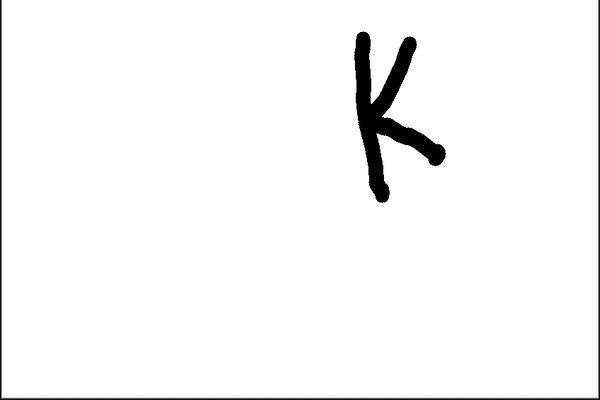K: (344, 27, 452, 207)
